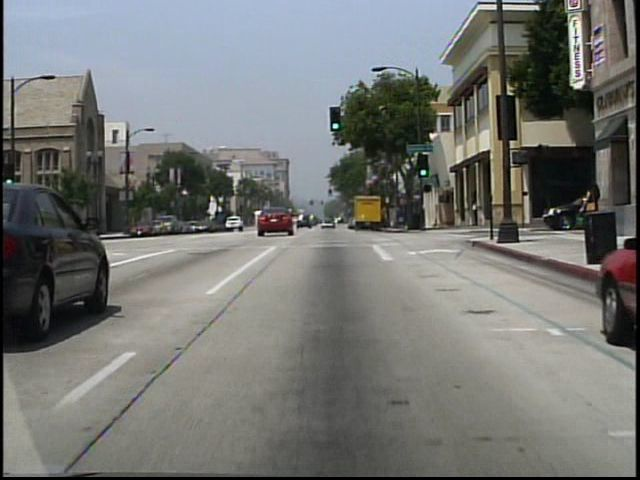person: (576, 176, 600, 244), (471, 199, 479, 230)
